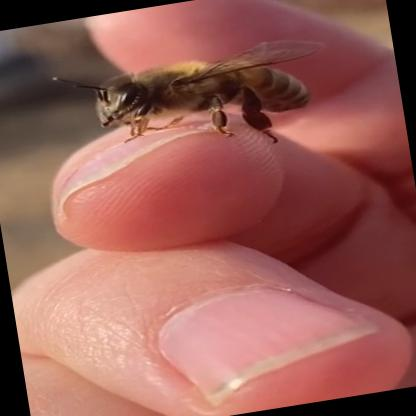bee: (40, 0, 352, 173)
